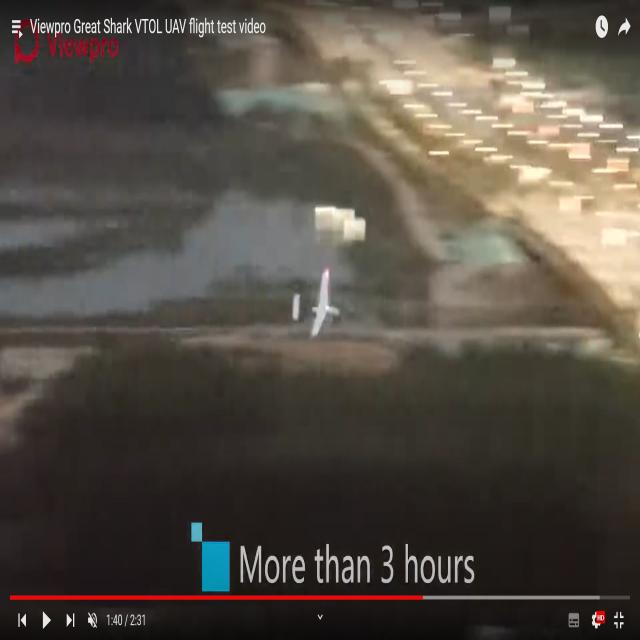iha: (290, 300, 341, 306)
